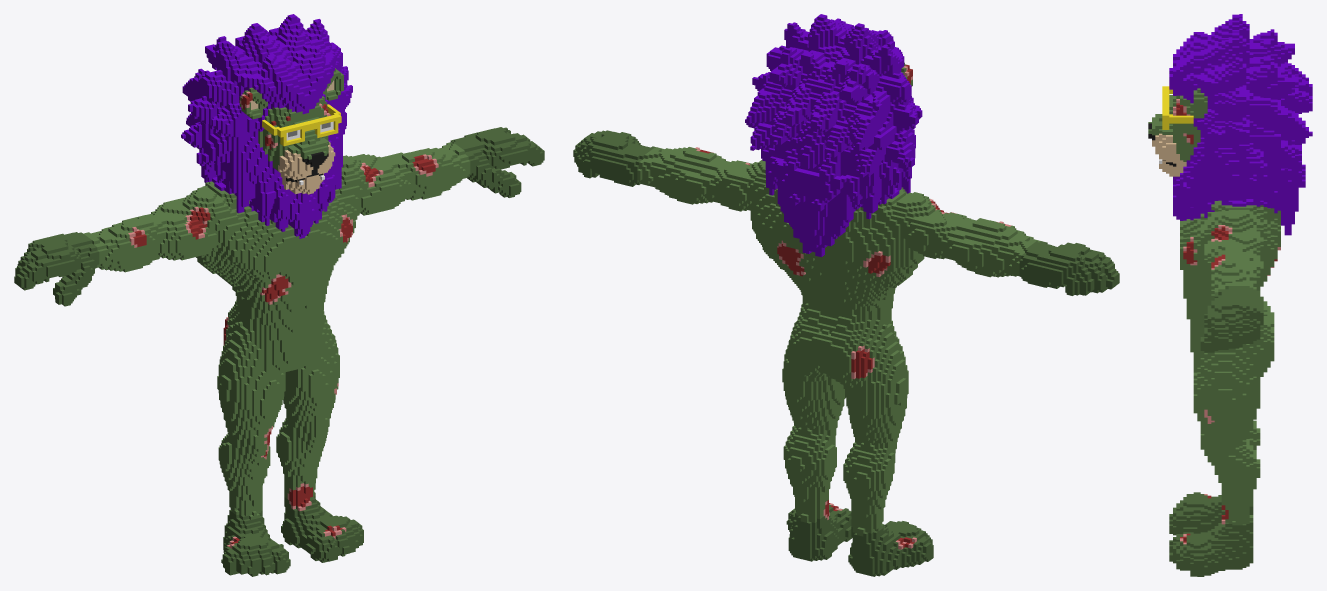
File: 597-BUD_0T3C.glb
The picture shows the model from 3 angles, left to right: view 1: azimuth 30°, elevation 25°; view 2: azimuth 150°, elevation 25°; view 3: azimuth 270°, elevation 25°; orthographic projection. The views are drawn at different scales.
Parts seen in each view (by area): view 1: standard; view 2: standard; view 3: standard.
Boxes of the visible parts, x1,y1,x2,y2 form: standard: [14, 14, 544, 576]; standard: [573, 14, 1119, 576]; standard: [1148, 14, 1312, 576].
Bounding box in the file's own units: 17.2 × 16.5 × 4.7.
4 materials, 4 textured.
